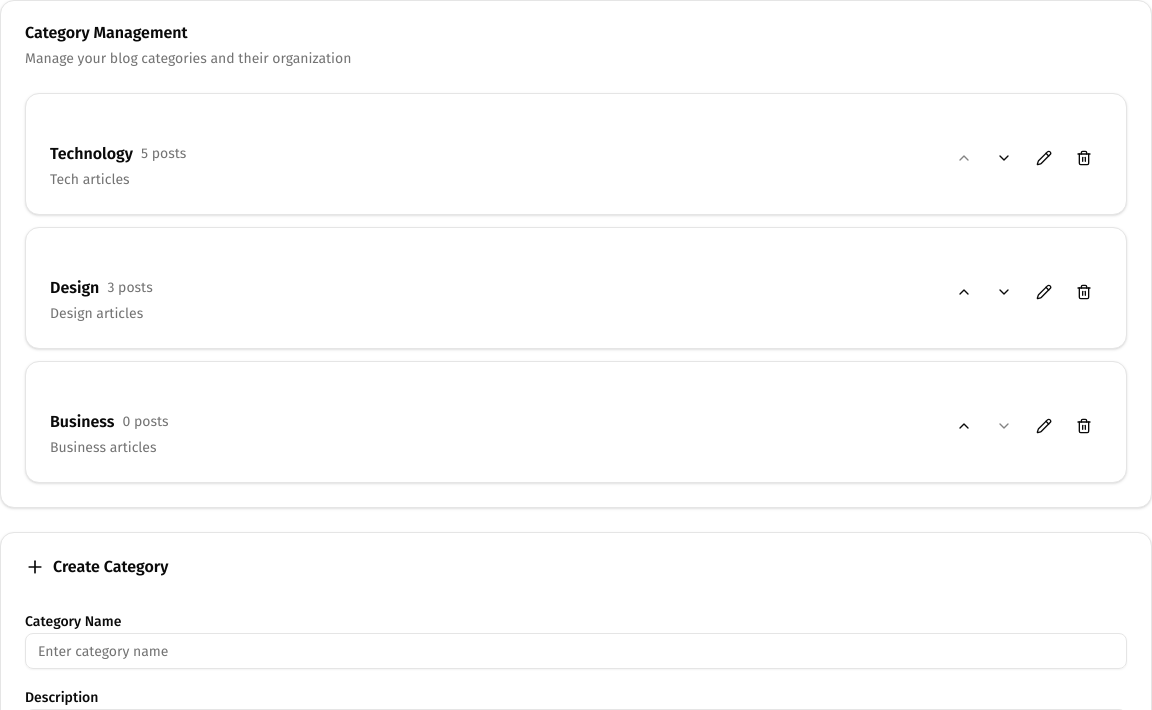
CategoryManager › Edit Category › should cancel edit mode when cancel button clicked
Click the button named "edit" in the row of "Technology". click: coordinates (1044, 158)
box: [1026,142,1062,174]
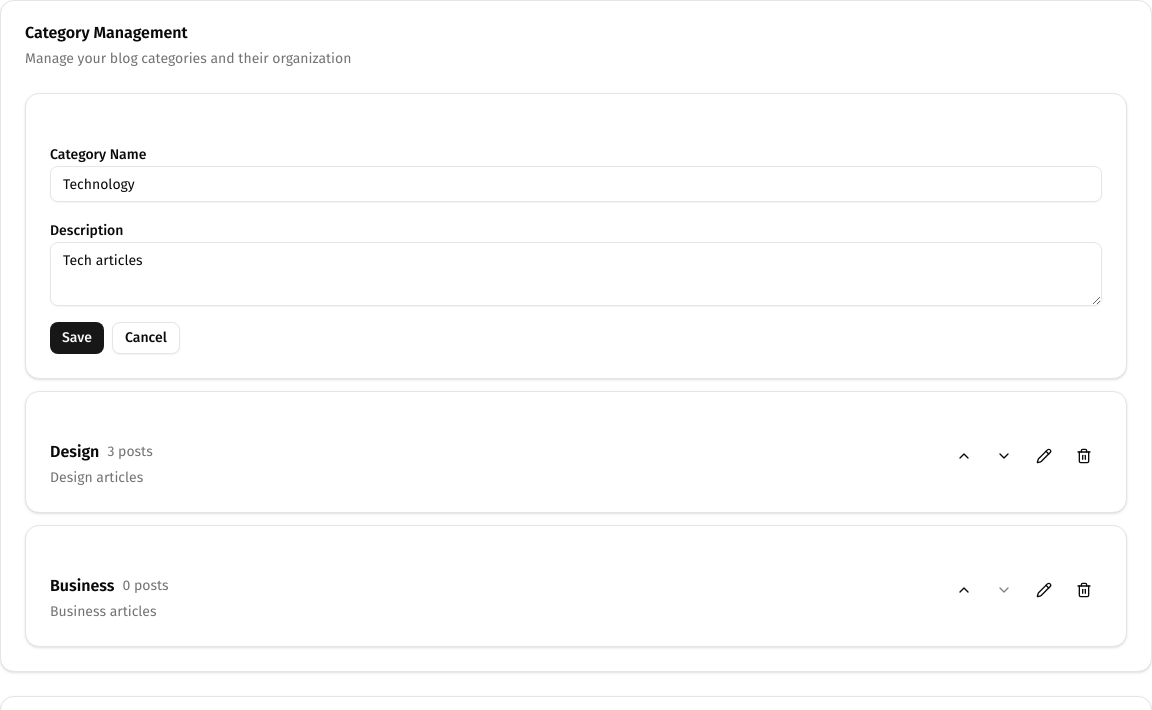
Replace the text in the field showing "Technology" with "Changed". click: coordinates (576, 184)
box: [50,166,1102,202]
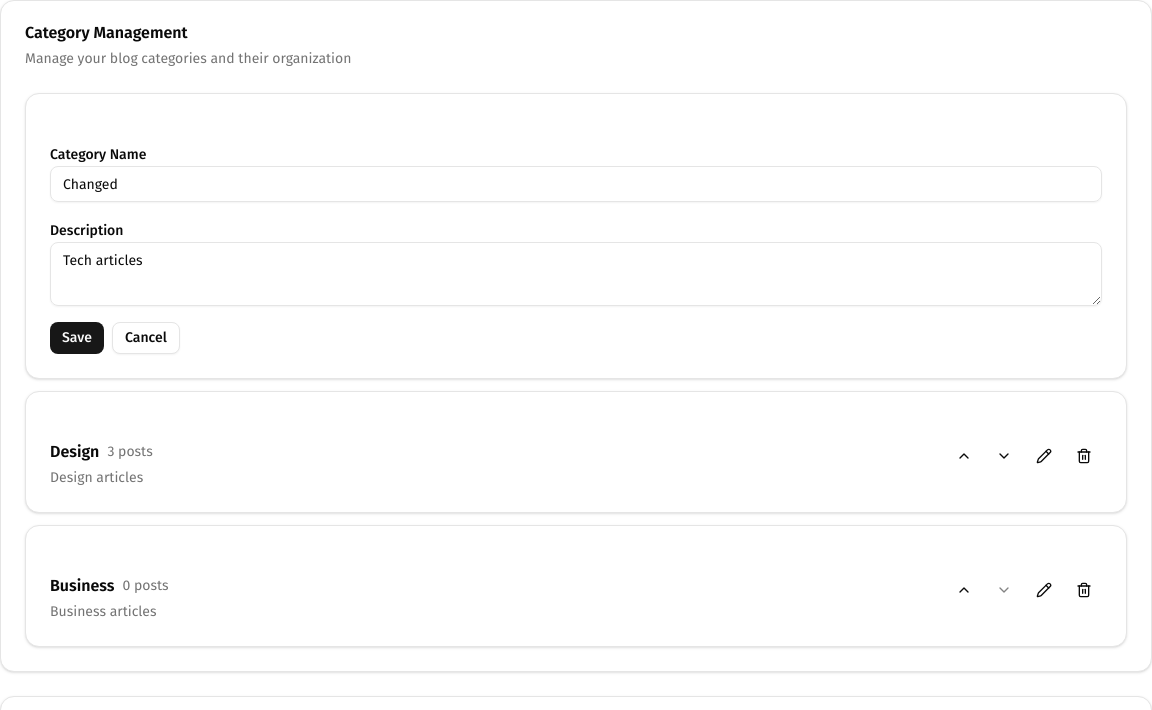
Click the button "Cancel". click: coordinates (146, 338)
box: [112,322,180,354]
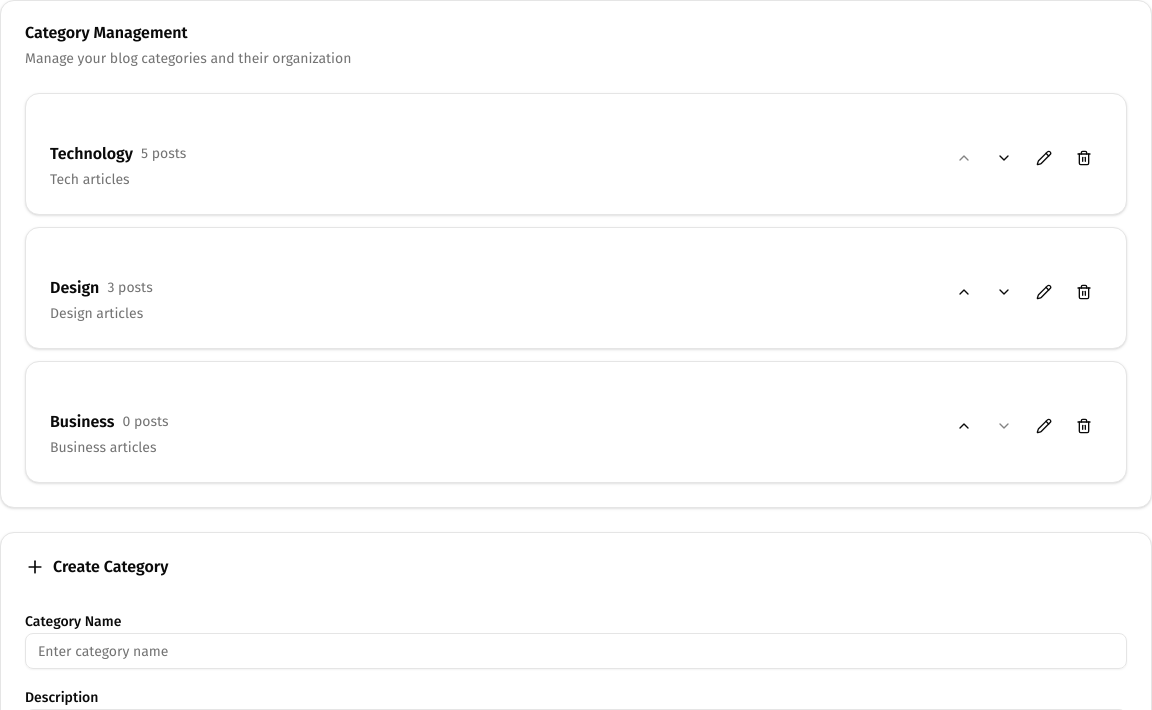
Expected: the field showing "Changed" is not shown
Expected: the heading "Technology" is shown, [50,142,133,166]
